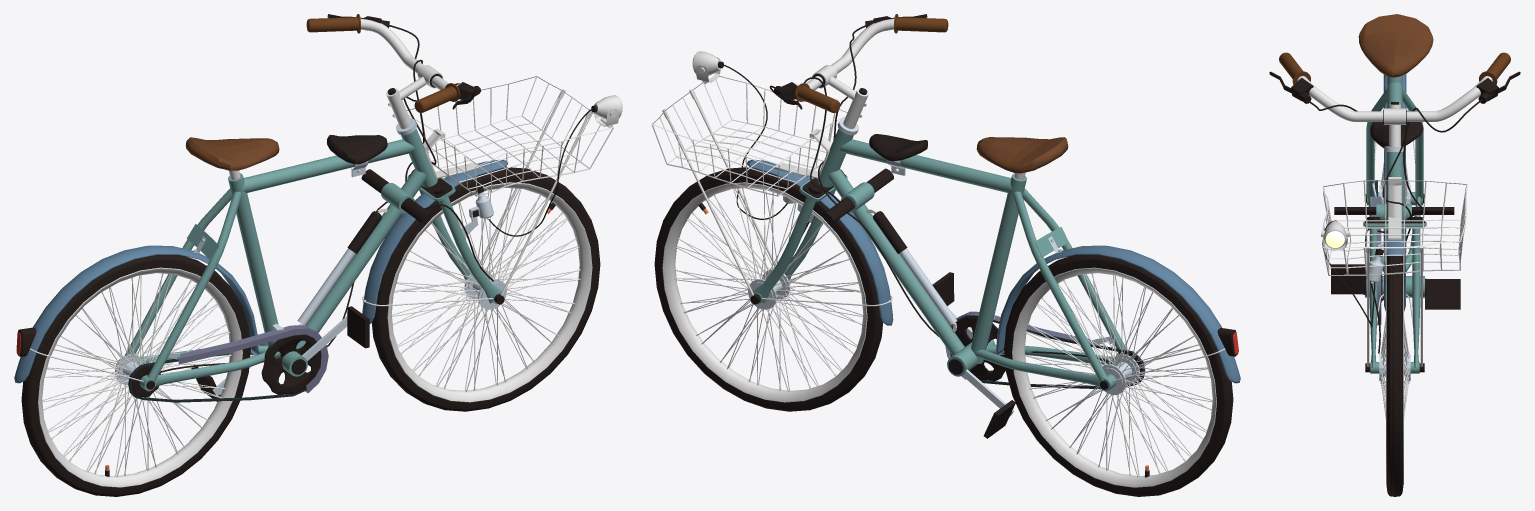
File: bicycle_692d4d15.glb
3 views of the same model, side by side, from view 1: azimuth 30°, elevation 25°; view 2: azimuth 150°, elevation 25°; view 3: azimuth 270°, elevation 25° (orthographic).
Parts seen in each view (by area): view 1: Cylinder.011, Cylinder.025, Cylinder.026, Cylinder.008, Cylinder.022, Cylinder.024, Cube.006, Cylinder.038, Cylinder.004, Cylinder.002, Cylinder, Cylinder.037 (+15 smaller); view 2: Cylinder.011, Cylinder.025, Cylinder.026, Cylinder.008, Cylinder.022, Cylinder.024, Cube.006, Cylinder.038, Cylinder.004, Cylinder.002, Cylinder, Cube.004 (+16 smaller); view 3: Cylinder.008, Cube.006, Cube.004, BezierCurve, Cylinder.006, Cylinder.004, Cube.003, Cube.002, Cube, Plane.001, Cube.009, Cylinder.060 (+14 smaller).
Boxes of the visible parts, x1=… form: Cylinder.011: x1=21, y1=254, x2=250, y2=496; Cylinder.025: x1=392, y1=188, x2=580, y2=391; Cylinder.026: x1=42, y1=273, x2=231, y2=476; Cylinder.008: x1=372, y1=167, x2=600, y2=411; Cylinder.022: x1=387, y1=182, x2=592, y2=402; Cylinder.024: x1=38, y1=267, x2=242, y2=487; Cube.006: x1=406, y1=76, x2=613, y2=196; Cylinder.038: x1=14, y1=245, x2=258, y2=383; Cylinder.004: x1=124, y1=188, x2=241, y2=381; Cylinder.002: x1=296, y1=169, x2=426, y2=348; Cylinder: x1=228, y1=173, x2=280, y2=358; Cylinder.037: x1=362, y1=159, x2=507, y2=323; Cylinder.011: x1=1004, y1=254, x2=1233, y2=496; Cylinder.025: x1=674, y1=188, x2=862, y2=391; Cylinder.026: x1=1023, y1=273, x2=1212, y2=476; Cylinder.008: x1=654, y1=167, x2=882, y2=411; Cylinder.022: x1=662, y1=182, x2=867, y2=402; Cylinder.024: x1=1012, y1=267, x2=1216, y2=487; Cube.006: x1=651, y1=76, x2=847, y2=196; Cylinder.038: x1=996, y1=245, x2=1240, y2=383; Cylinder.004: x1=1013, y1=188, x2=1126, y2=381; Cylinder.002: x1=828, y1=169, x2=964, y2=355; Cylinder: x1=971, y1=173, x2=1026, y2=363; Cube.004: x1=976, y1=137, x2=1068, y2=173; Cylinder.008: x1=1386, y1=255, x2=1403, y2=496; Cube.006: x1=1322, y1=180, x2=1467, y2=275; Cube.004: x1=1358, y1=14, x2=1433, y2=77; BezierCurve: x1=1297, y1=76, x2=1492, y2=121; Cylinder.006: x1=1369, y1=228, x2=1420, y2=367; Cylinder.004: x1=1366, y1=88, x2=1423, y2=198; Cube.003: x1=1423, y1=279, x2=1460, y2=309; Cube.002: x1=1331, y1=264, x2=1369, y2=294; Cube: x1=1269, y1=71, x2=1520, y2=103; Plane.001: x1=1388, y1=183, x2=1401, y2=240; Cube.009: x1=1370, y1=122, x2=1423, y2=148; Cylinder.060: x1=1279, y1=52, x2=1510, y2=79.
Size of the model in its own units: 357 by 221 by 134.
